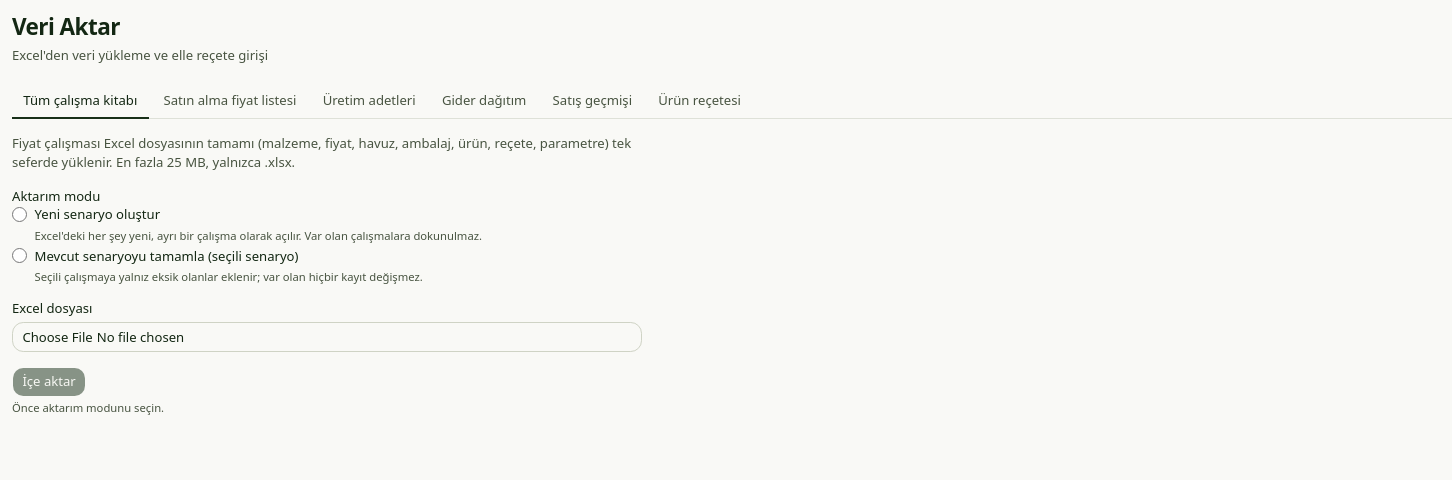
Scenario: ReceteAktar - mevcut senaryoyu tamamla › tamamla modunda dosyasız gönderilmez
The width and height of the screenshot is (1452, 480).
Click the radio button labelled "Mevcut senaryoyu tamamla (seçili senaryo)" at x=20, y=256, box [12,248,27,263]
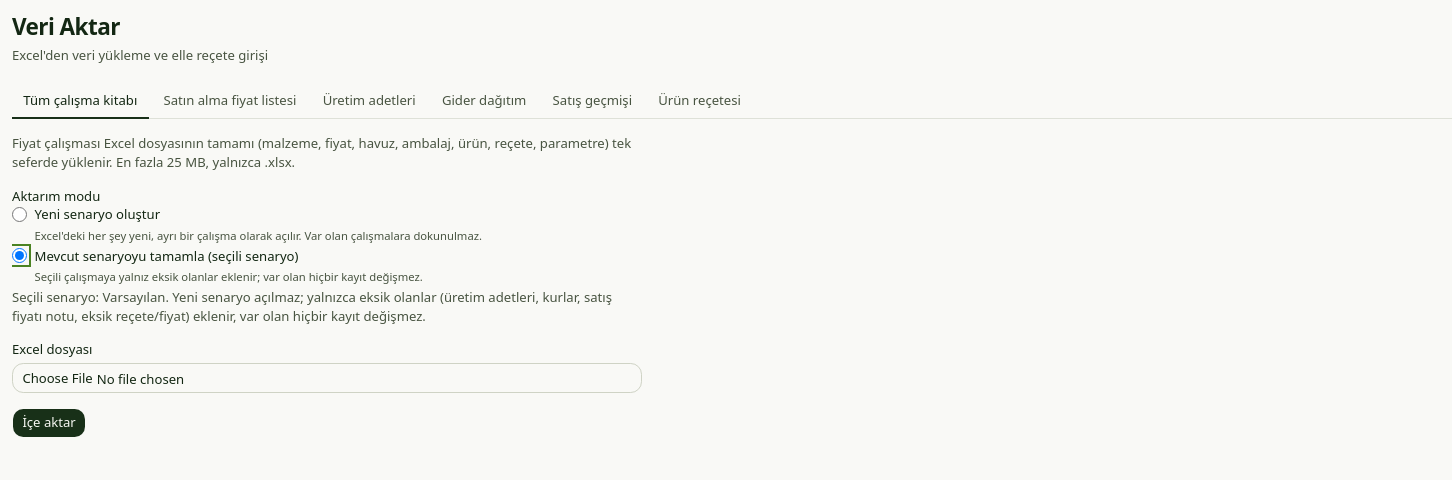
Click the button "İçe aktar" at x=49, y=423, box [12,408,86,438]
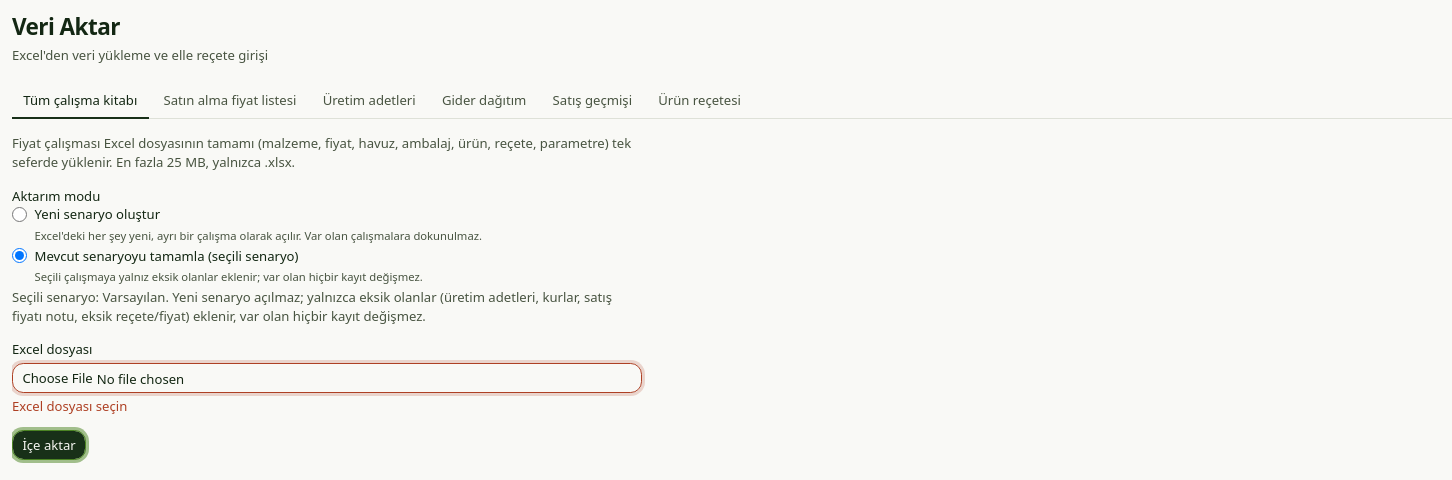
Expected: the text "Excel dosyası seçin" is shown, [12,396,127,414]
